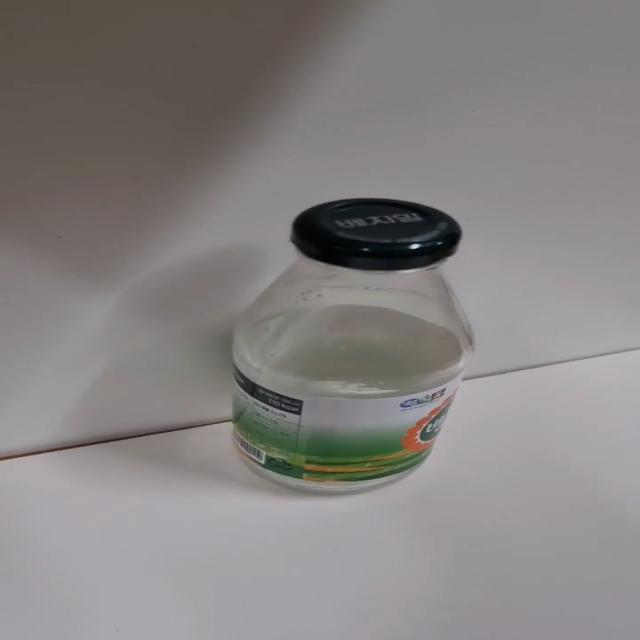Glass: (230, 198, 475, 498)
